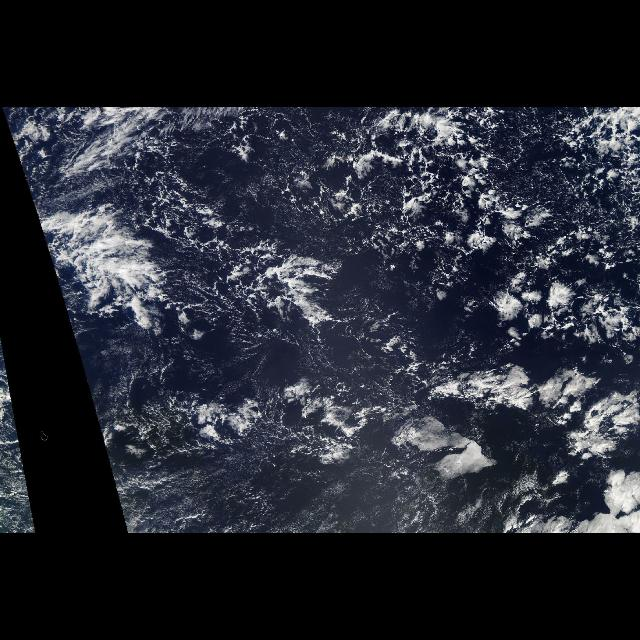Fish: (173, 196, 333, 350), (412, 363, 602, 419)
Gravel: (15, 110, 640, 338), (107, 380, 375, 496)
